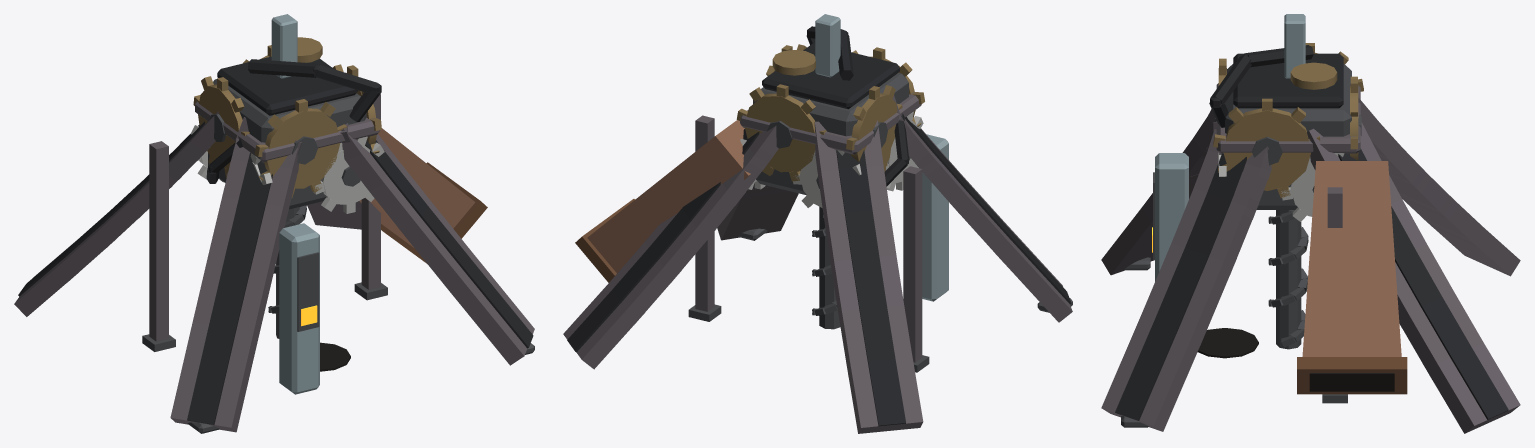
The model's file is burner-mining-drill-east.glb.
3 renders of one model, left to right at view 1: azimuth 30°, elevation 25°; view 2: azimuth 150°, elevation 25°; view 3: azimuth 270°, elevation 25°, orthographic. The views are drawn at different scales.
Parts seen in each view (by area): view 1: body, anim_gear_bmd_ns_00, anim_gear_bmd_ew_30, anim_gear_bmd_r_ns_01, anim_slide_bmd_rod, anim_spin_drill, anim_gear_bmd_ew_10; view 2: body, anim_gear_bmd_ns_20, anim_gear_bmd_ew_30, anim_spin_drill, anim_slide_bmd_rod, anim_gear_bmd_r_ns_21, anim_gear_bmd_r_ew_31, anim_gear_bmd_ns_00; view 3: body, anim_gear_bmd_ew_10, anim_spin_drill, anim_slide_bmd_rod, anim_gear_bmd_r_ew_11, anim_gear_bmd_ns_20.
Part boxes in pixels (x1,y1,x2,y2): body: [14, 37, 534, 433]; anim_gear_bmd_ns_00: [254, 99, 346, 197]; anim_gear_bmd_ew_30: [193, 76, 249, 178]; anim_gear_bmd_r_ns_01: [313, 136, 384, 213]; anim_slide_bmd_rod: [271, 14, 297, 78]; anim_spin_drill: [268, 205, 306, 338]; anim_gear_bmd_ew_10: [332, 64, 381, 153]; body: [563, 26, 1072, 433]; anim_gear_bmd_ns_20: [736, 84, 826, 181]; anim_gear_bmd_ew_30: [846, 85, 902, 171]; anim_spin_drill: [812, 207, 840, 329]; anim_slide_bmd_rod: [815, 14, 840, 77]; anim_gear_bmd_r_ns_21: [793, 149, 861, 217]; anim_gear_bmd_r_ew_31: [886, 111, 923, 191]; anim_gear_bmd_ns_00: [852, 47, 924, 126]; body: [1101, 45, 1520, 433]; anim_gear_bmd_ew_10: [1213, 98, 1320, 197]; anim_spin_drill: [1268, 210, 1308, 349]; anim_slide_bmd_rod: [1284, 14, 1305, 78]; anim_gear_bmd_r_ew_11: [1281, 153, 1344, 221]; anim_gear_bmd_ns_20: [1350, 76, 1361, 160].
Size of the model in its own units: 2.2 by 1.7 by 1.98.
